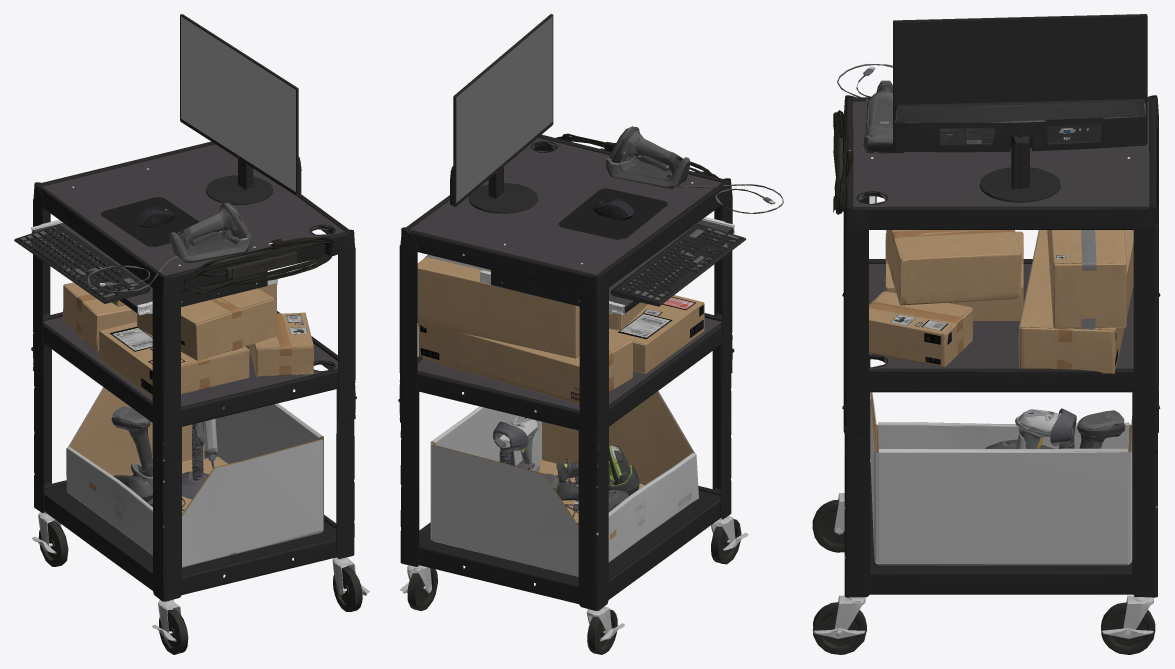
The model's file is scanning_cart.glb.
3 views of the same model, side by side, from view 1: azimuth 30°, elevation 25°; view 2: azimuth 150°, elevation 25°; view 3: azimuth 270°, elevation 25° (orthographic). The views are drawn at different scales.
Visible parts, largest first — view 1: scanning_cart_mesh; view 2: scanning_cart_mesh; view 3: scanning_cart_mesh.
Boxes of the visible parts, x1,y1,x2,y2 form: scanning_cart_mesh: (14, 14, 369, 654); scanning_cart_mesh: (398, 14, 783, 654); scanning_cart_mesh: (812, 14, 1160, 654).
Size of the model in its own units: 0.753 by 1.45 by 0.7407.
Materials: 35 (12 with a texture image).
